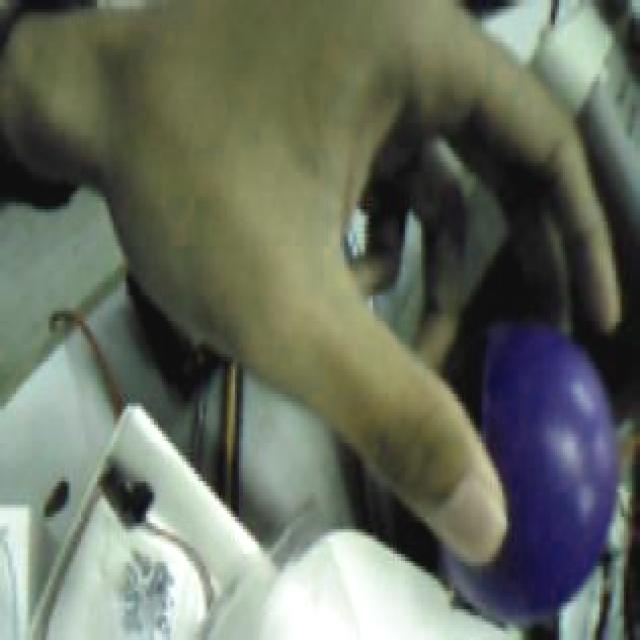BallPurple: (429, 315, 616, 614)
